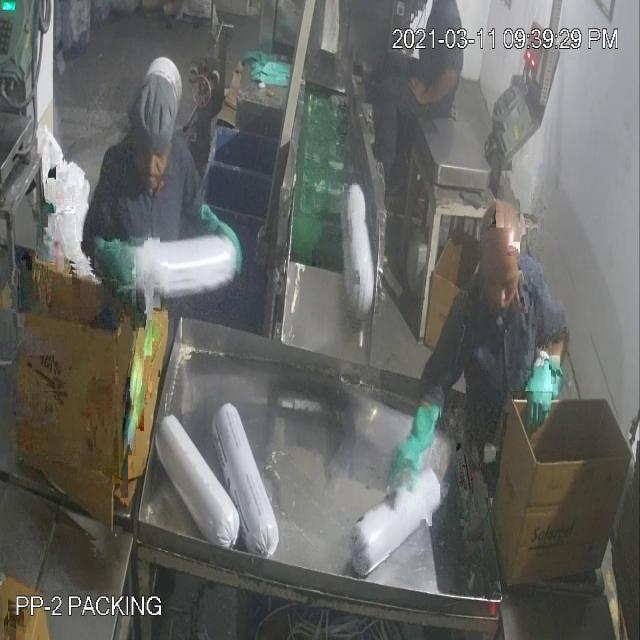Gloves: (50, 57, 545, 443)
